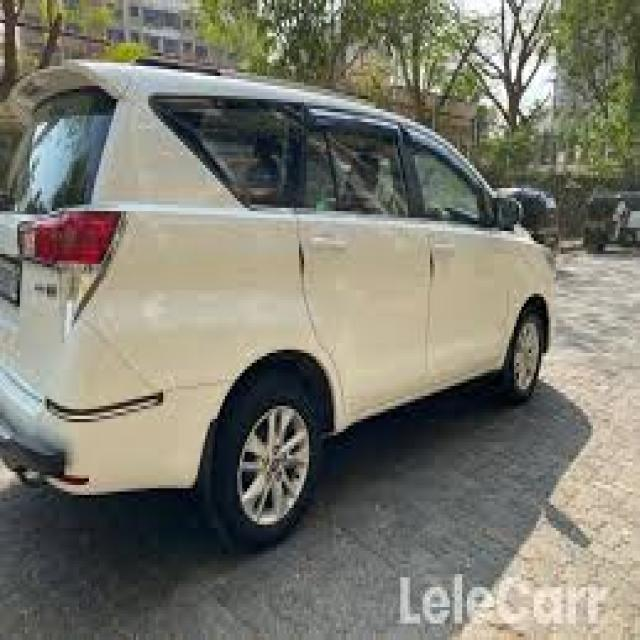cars: (0, 55, 567, 568)
